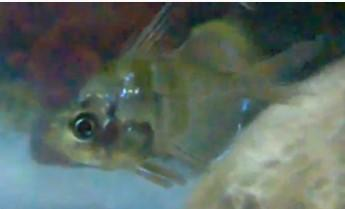Glass Perchlet: (30, 0, 315, 191)
